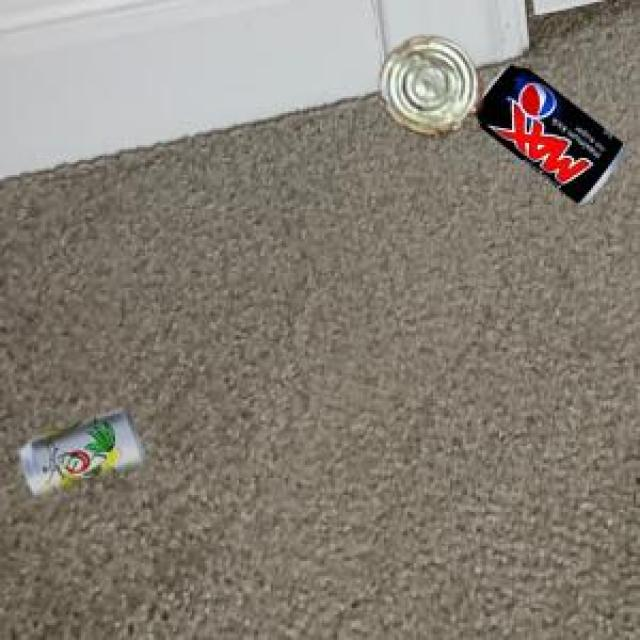logam: (470, 61, 620, 199), (16, 406, 142, 492), (377, 35, 479, 133)
